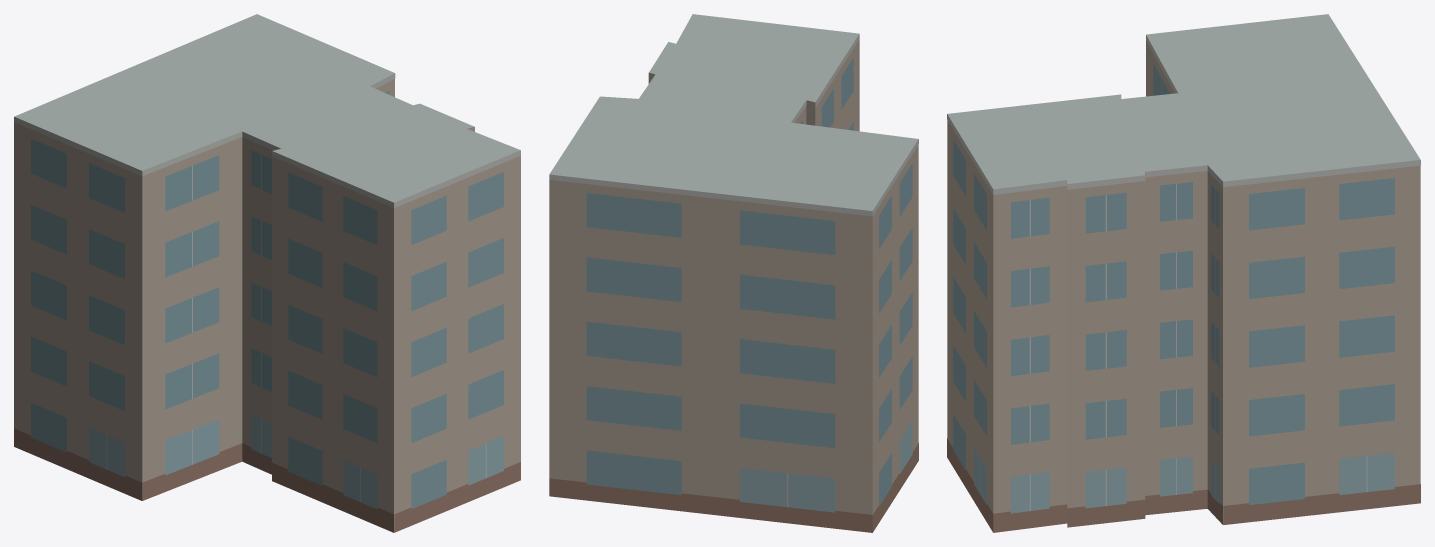
Rendered from survey-upis-32750768.glb.
The picture shows the model from 3 angles, left to right: view 1: azimuth 30°, elevation 25°; view 2: azimuth 150°, elevation 25°; view 3: azimuth 270°, elevation 25°; orthographic projection. The views are drawn at different scales.
Visible parts, largest first — view 1: survey-upis-32750768.tmp; view 2: survey-upis-32750768.tmp; view 3: survey-upis-32750768.tmp.
Boxes of the visible parts, x1,y1,x2,y2 form: survey-upis-32750768.tmp: [14, 14, 520, 532]; survey-upis-32750768.tmp: [549, 14, 918, 532]; survey-upis-32750768.tmp: [947, 14, 1420, 532].
Size of the model in its own units: 16.23 by 14.8 by 18.51.
